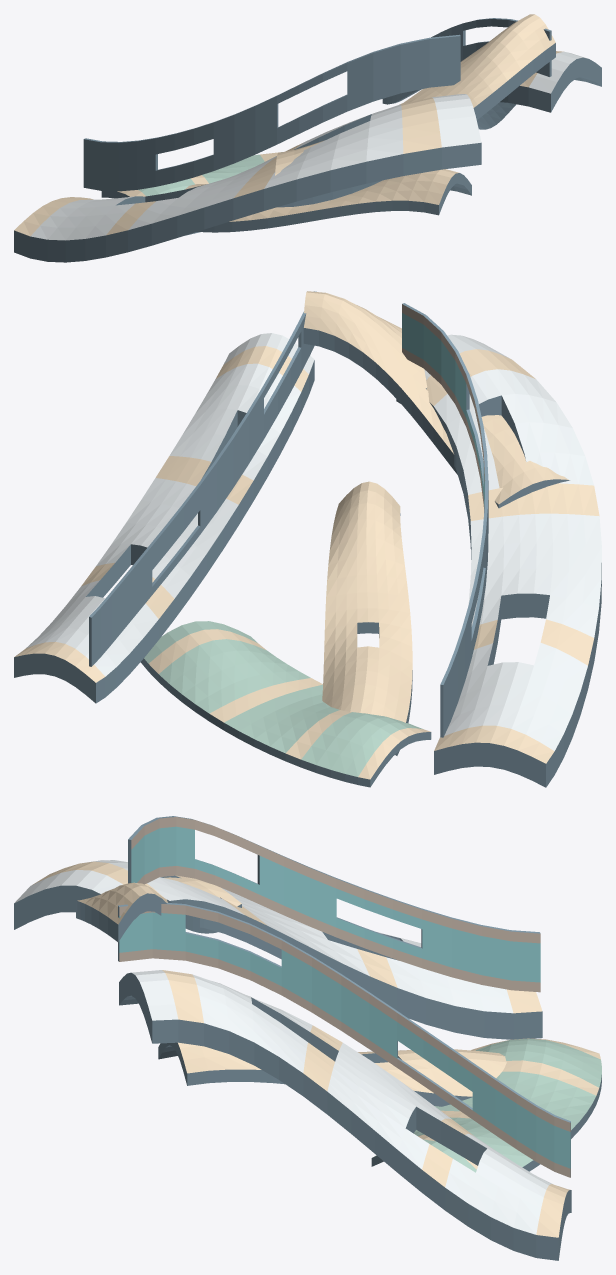
The model's file is a30_pierced_cityland.glb.
The picture shows the model from 3 angles, top to bottom: view 1: azimuth 30°, elevation 25°; view 2: azimuth 150°, elevation 25°; view 3: azimuth 270°, elevation 25°; orthographic projection. The views are drawn at different scales.
Visible parts, largest first — view 1: A30 / PUNCTURED CIVIC LANDSCAPE; view 2: A30 / PUNCTURED CIVIC LANDSCAPE; view 3: A30 / PUNCTURED CIVIC LANDSCAPE.
Boxes of the visible parts, bbox=[...] form: A30 / PUNCTURED CIVIC LANDSCAPE: bbox=[14, 14, 601, 262]; A30 / PUNCTURED CIVIC LANDSCAPE: bbox=[14, 291, 601, 787]; A30 / PUNCTURED CIVIC LANDSCAPE: bbox=[14, 816, 601, 1260].
Bounding box in the file's own units: 335 × 180 × 300.
